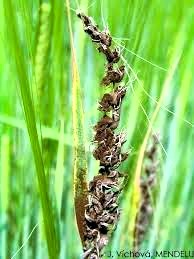Wheat Loose Smut: (82, 109, 130, 230)
